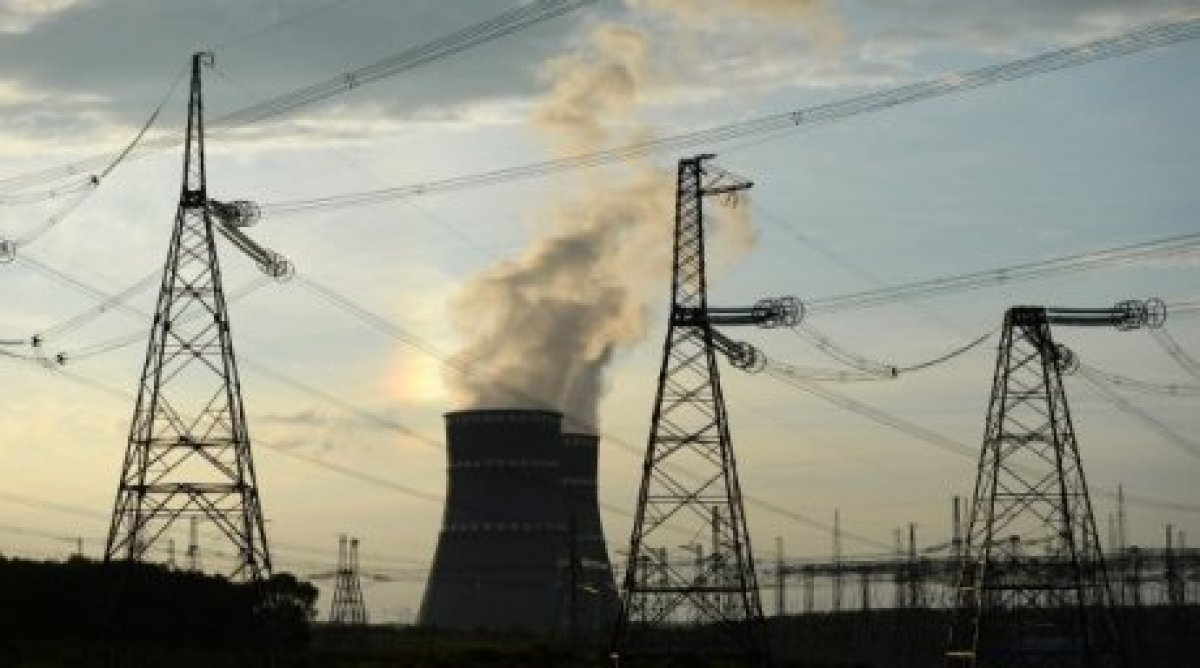工厂排烟: (434, 0, 847, 411), (556, 268, 649, 437)
